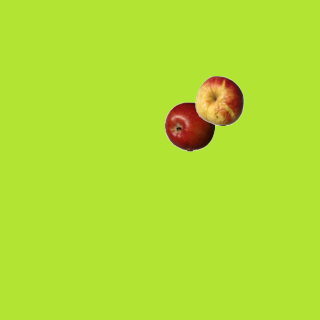Apple Braeburn: (164, 101, 214, 151)
Apple Red Yellow 1: (194, 75, 244, 125)
